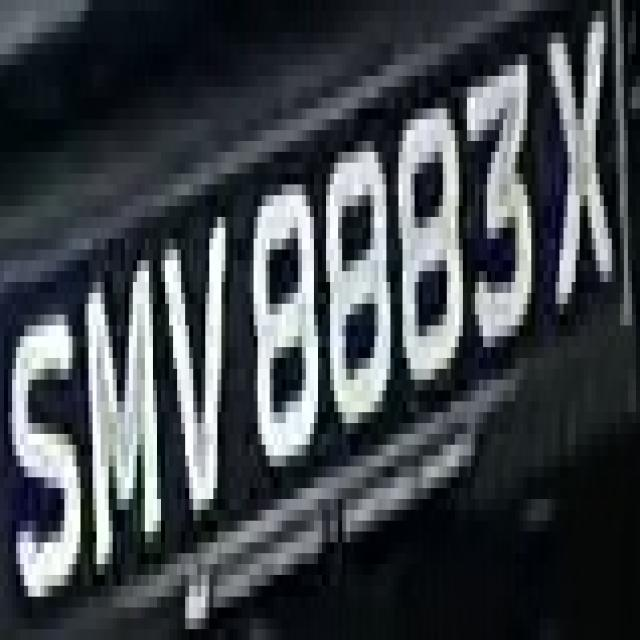3: (459, 43, 539, 369)
8: (322, 119, 403, 445), (390, 87, 471, 401), (246, 163, 322, 488)
M: (72, 228, 165, 575)
S: (0, 261, 81, 618)
V: (157, 228, 241, 553)
X: (547, 0, 623, 325)
